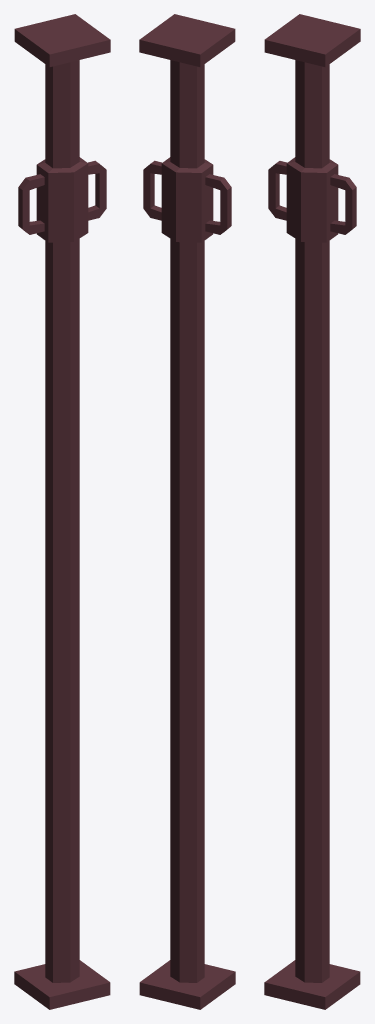
File: construction-steel-prop.glb
3 views of the same model, side by side, from view 1: azimuth 30°, elevation 25°; view 2: azimuth 150°, elevation 25°; view 3: azimuth 330°, elevation 25° (orthographic).
Parts seen in each view (by area): view 1: steel-prop; view 2: steel-prop; view 3: steel-prop.
Part boxes in pixels (x1,y1,x2,y2): steel-prop: (14, 14, 110, 1009); steel-prop: (139, 14, 235, 1009); steel-prop: (264, 14, 360, 1009).
Bounding box in the file's own units: 0.2763 × 3 × 0.2.
